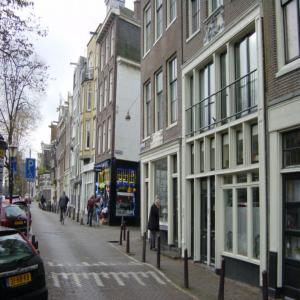Vehicle-registration-plate: (9, 273, 32, 287)
